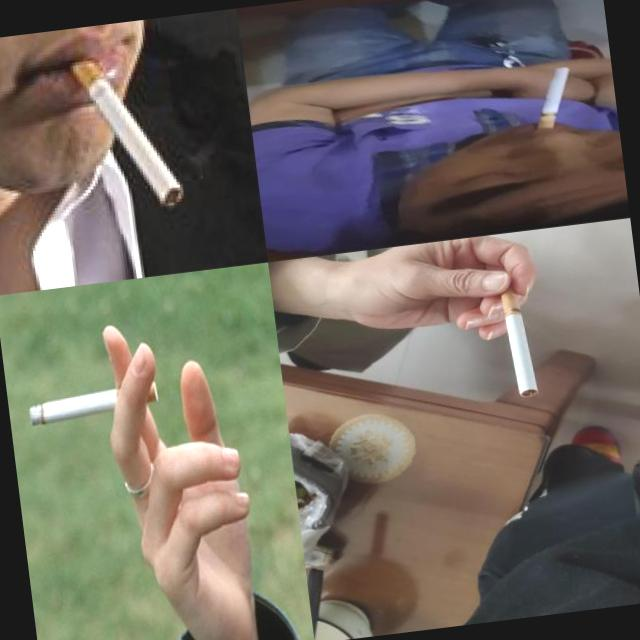smoke: (60, 36, 184, 218), (497, 282, 541, 400), (23, 383, 117, 429), (532, 67, 576, 129)
